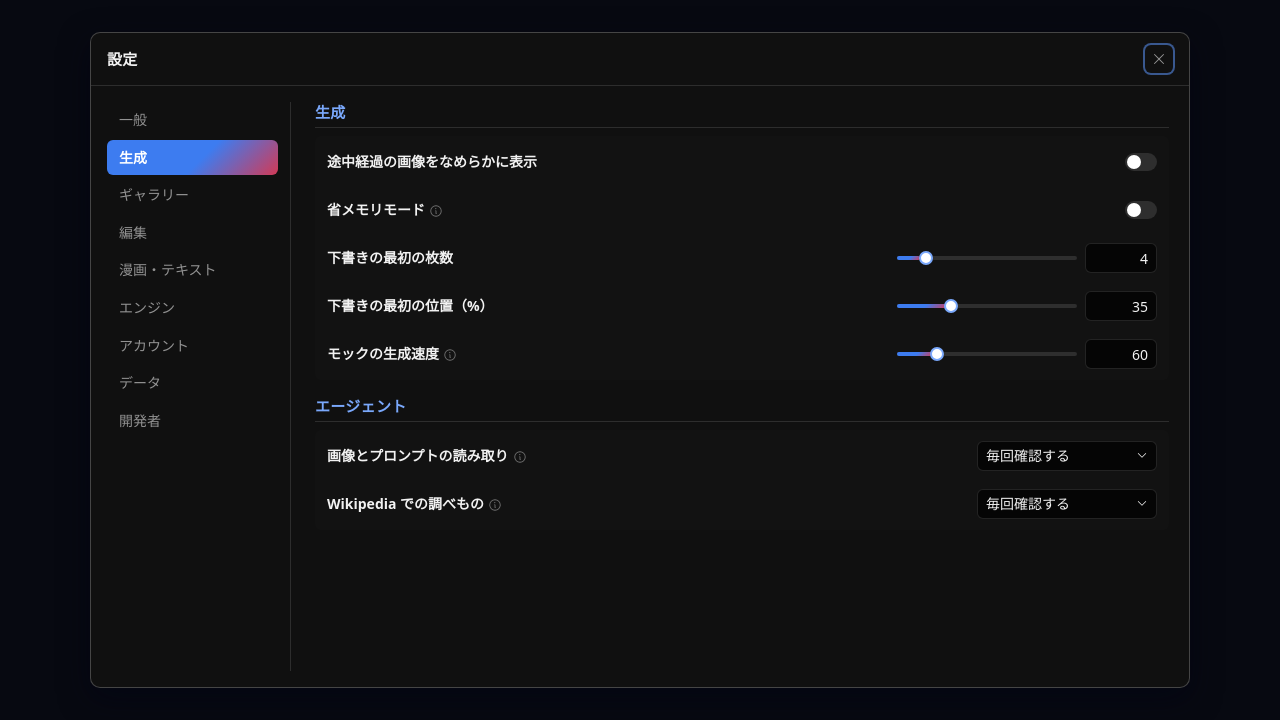
Test case: generation, gallery, editing and developer › chooses whether the assistant may look things up on Wikipedia, apart from reading pictures
This screenshot has width=1280, height=720.
Click the tab with test id "settings-tab-general" at (192, 120), box top-left (107, 102), bottom-right (278, 138)
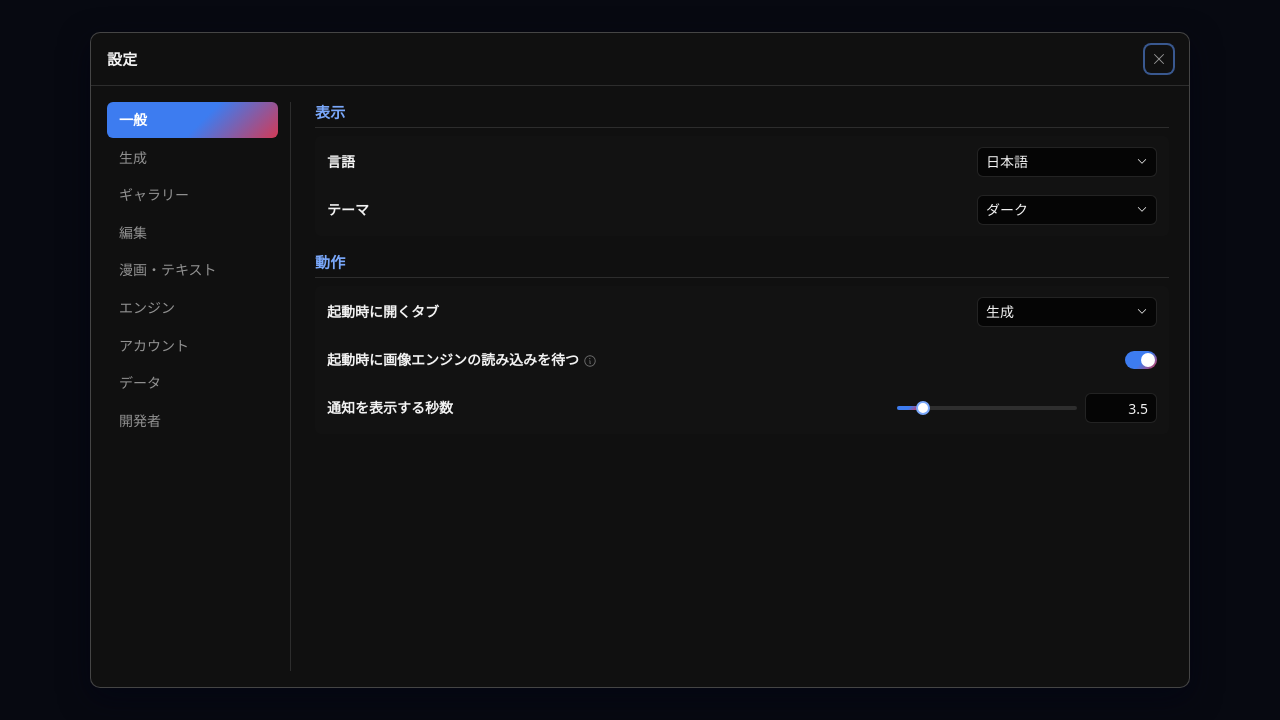
Click the tab "生成" at (192, 157), box top-left (107, 140), bottom-right (278, 175)
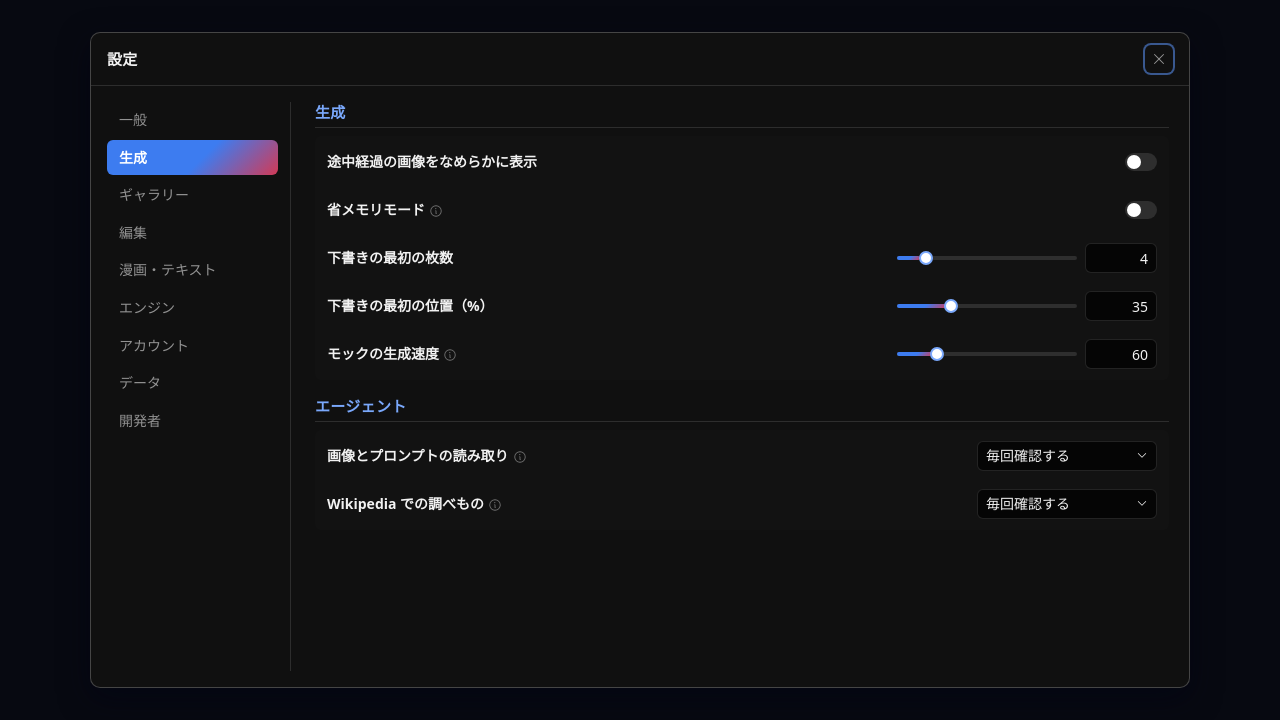
Press Enter in the dropdown with test id "settings-assistant-web", box top-left (977, 489), bottom-right (1157, 519)
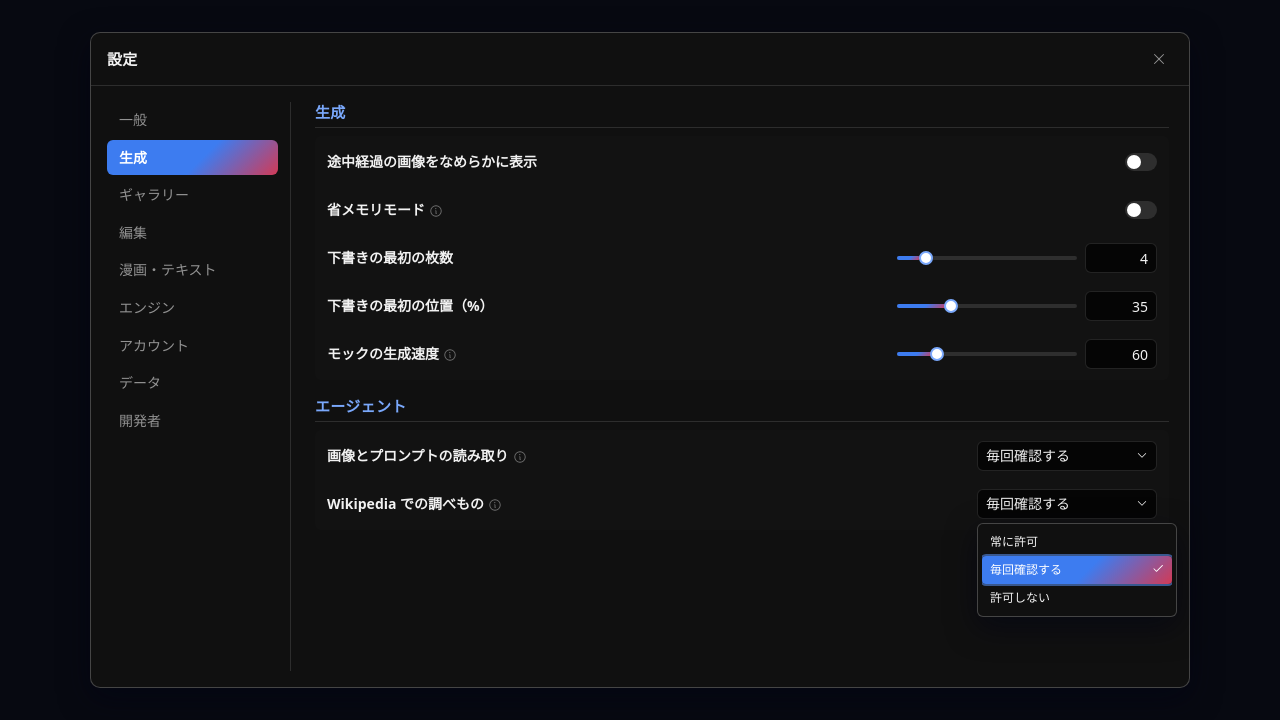
Press Enter in the option "許可しない", box top-left (990, 589), bottom-right (1050, 606)
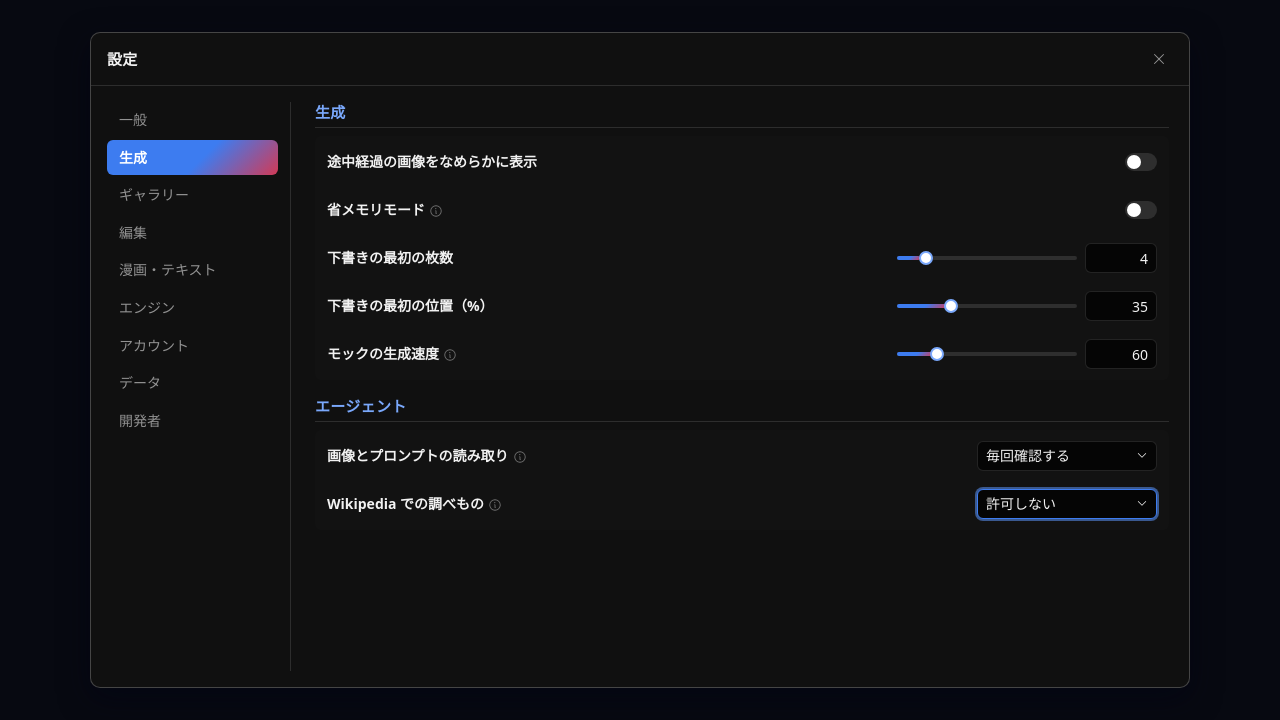
Expected: the list is gone
Press Enter in the dropdown with test id "settings-assistant-web", box top-left (977, 489), bottom-right (1157, 519)
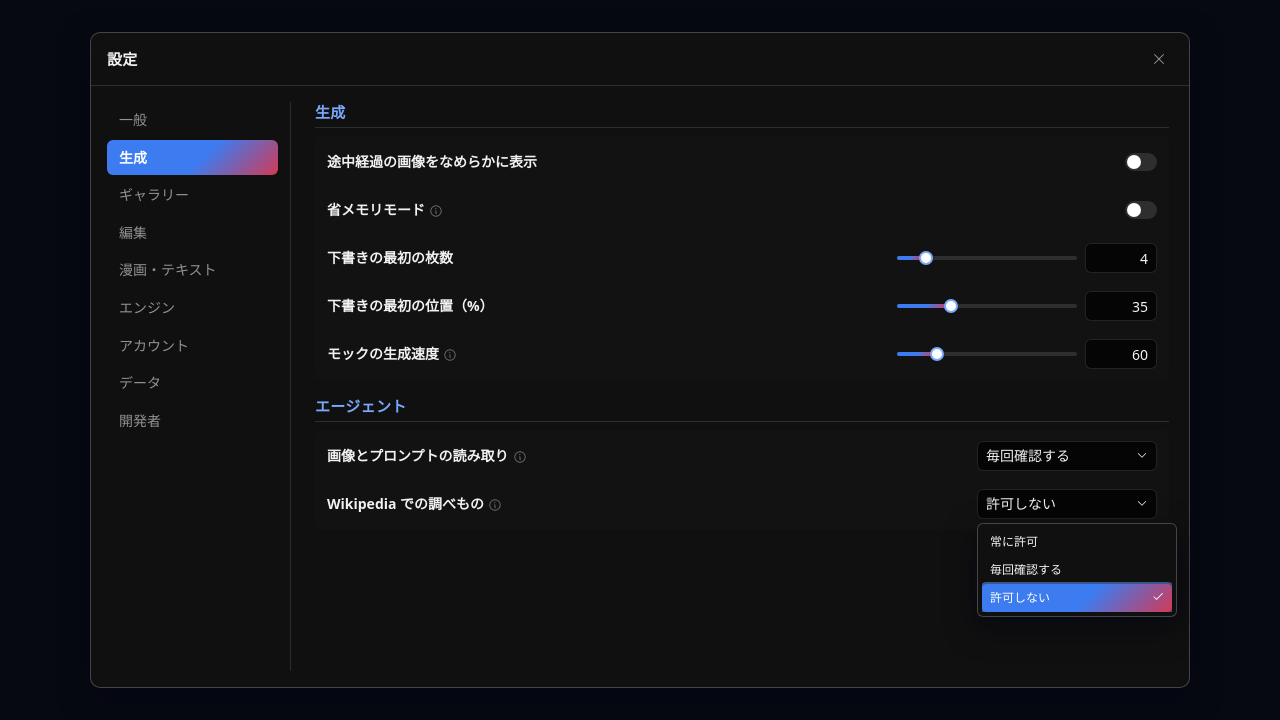
Press Enter in the option "常に許可", box top-left (990, 533), bottom-right (1038, 550)
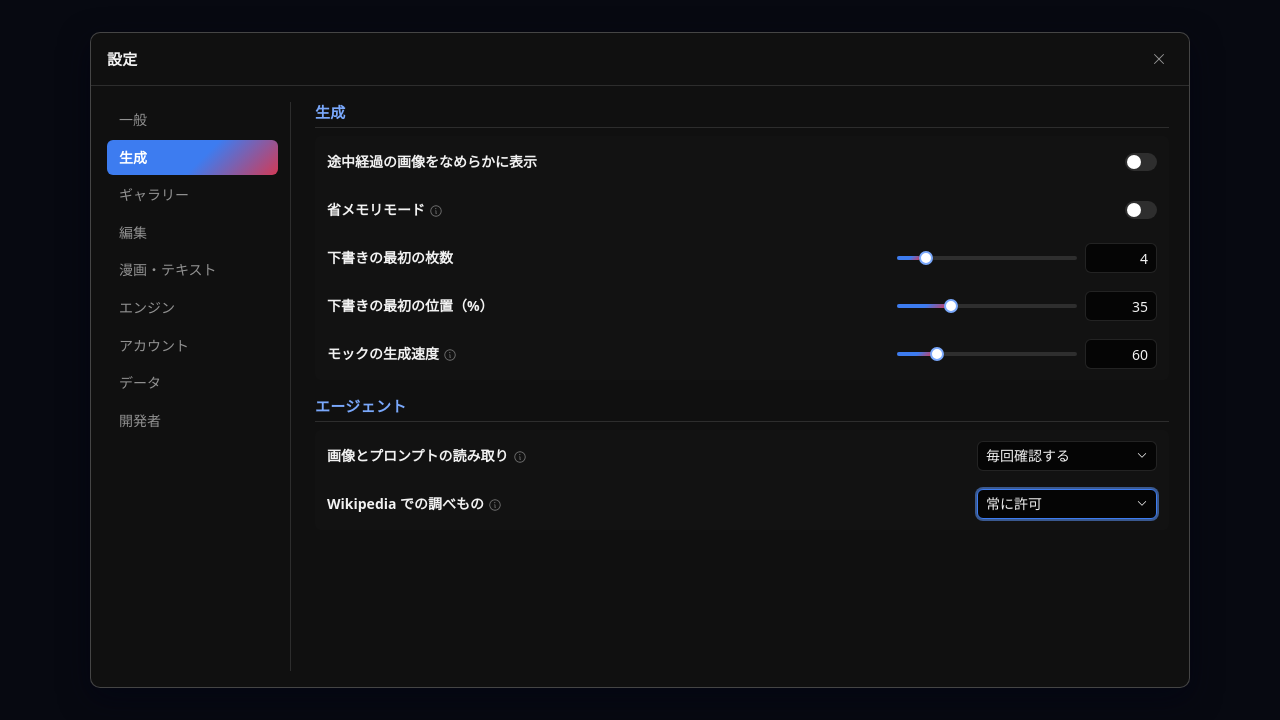
Expected: the list is gone
